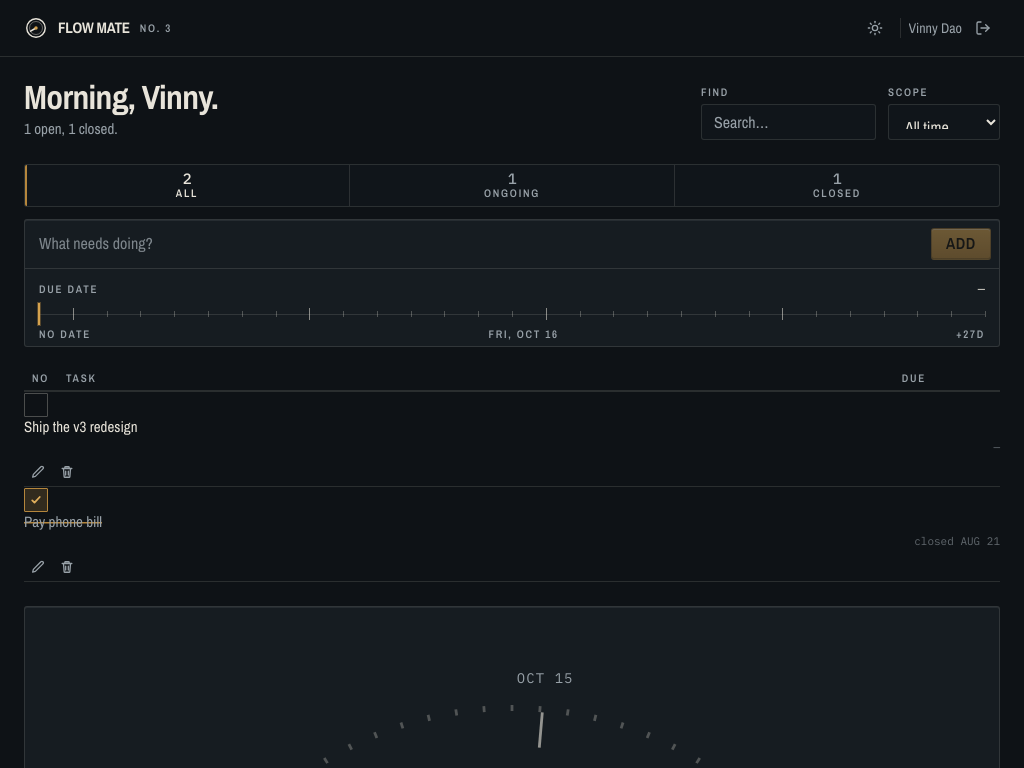
it: HomePage › filters by status tab
Expected: the text "Ship the v3 redesign" is shown, x1=24 y1=416 x2=138 y2=438
Click the button "1 Ongoing" at (512,185), box x1=349 y1=165 x2=674 y2=206
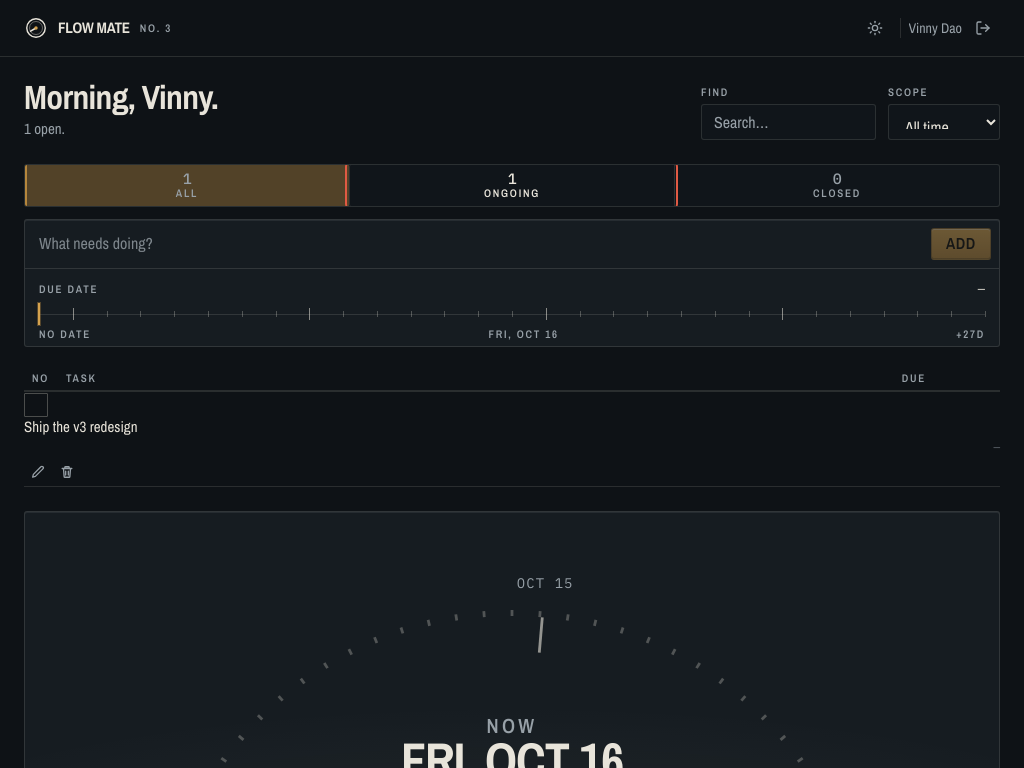
Expected: the text "Ship the v3 redesign" is shown, x1=24 y1=416 x2=138 y2=438
Result: the button "Pay phone bill" is gone
